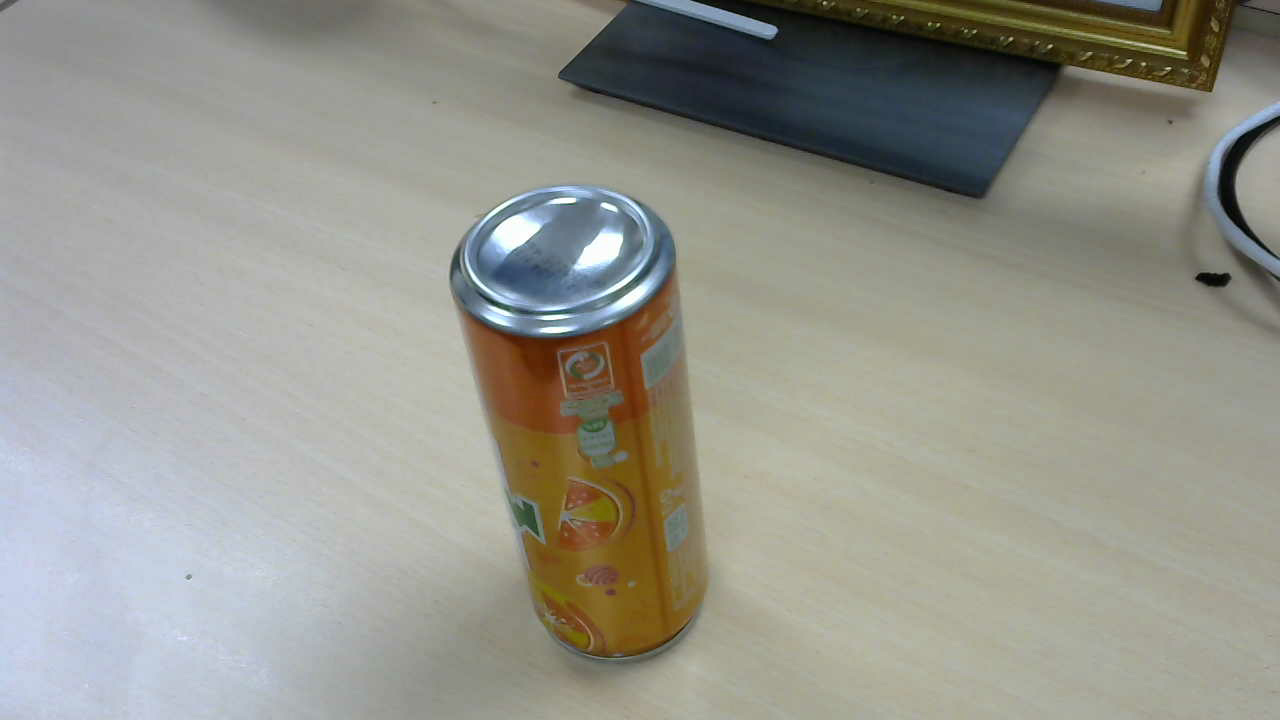Mirinda: (458, 184, 716, 665)
